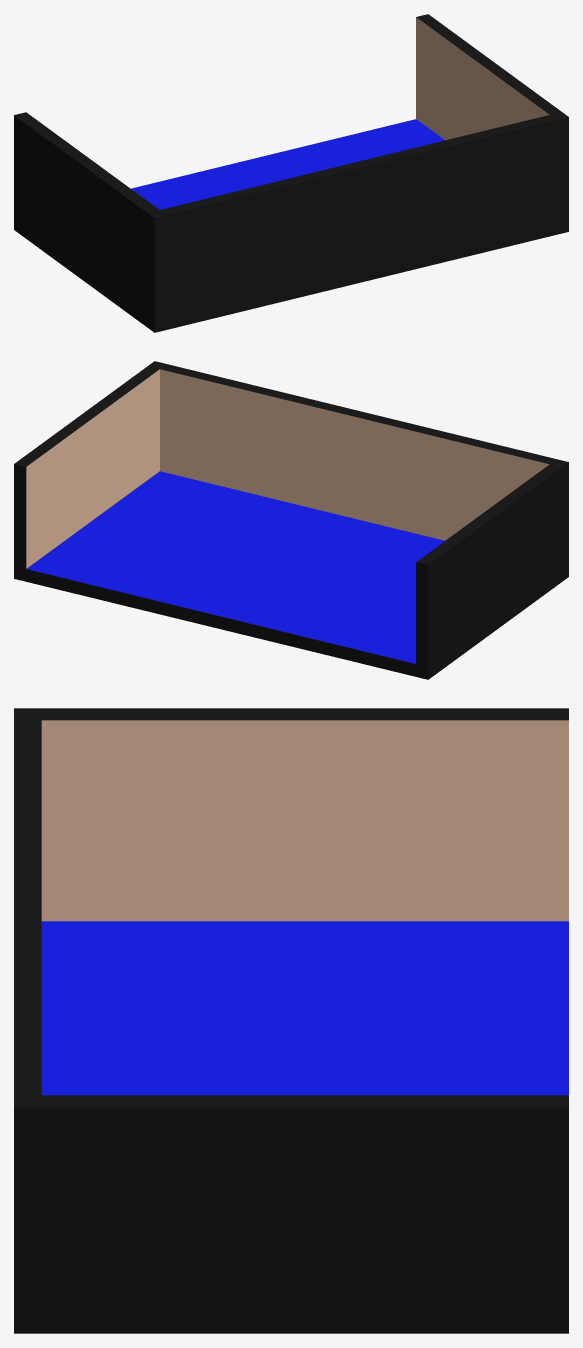
Rendered from Basement Model.FBX.
3 renders of one model, top to bottom at view 1: azimuth 30°, elevation 25°; view 2: azimuth 150°, elevation 25°; view 3: azimuth 270°, elevation 25°, orthographic. The views are drawn at different scales.
Visible parts, largest first — view 1: Room; view 2: Room; view 3: Room.
Boxes of the visible parts, bbox=[...] form: Room: bbox=[14, 14, 568, 332]; Room: bbox=[14, 361, 568, 679]; Room: bbox=[14, 708, 568, 1333].
Size of the model in its own units: 170 by 45 by 100.
